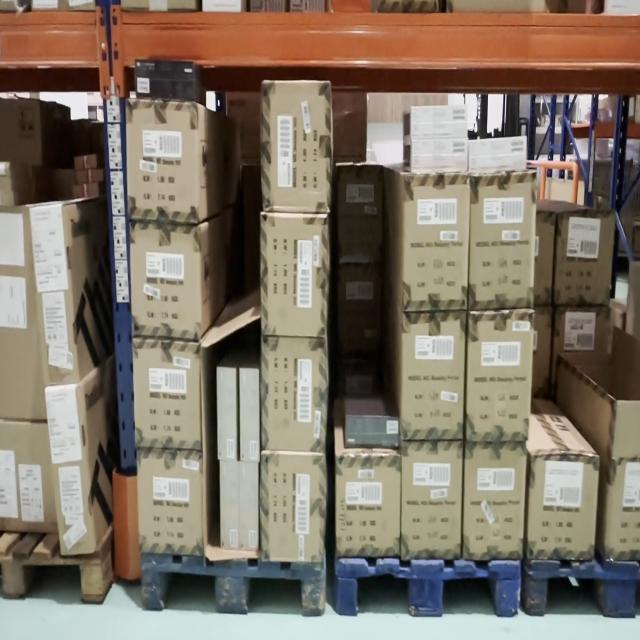box: (26, 205, 80, 388), (265, 83, 329, 211), (472, 176, 534, 306), (406, 176, 466, 310), (133, 226, 200, 336), (129, 102, 194, 215), (262, 216, 324, 334), (402, 442, 462, 560), (404, 316, 462, 438), (470, 313, 525, 440), (134, 342, 199, 447), (465, 445, 523, 559), (532, 458, 593, 560), (338, 458, 399, 560), (264, 455, 321, 562), (264, 341, 322, 446), (142, 453, 200, 552), (560, 214, 607, 302), (340, 265, 380, 363), (340, 169, 380, 262), (412, 139, 467, 170), (347, 415, 398, 448), (241, 370, 259, 461), (470, 141, 526, 170), (241, 462, 258, 550), (221, 462, 238, 549), (220, 371, 236, 459), (412, 108, 466, 134)
